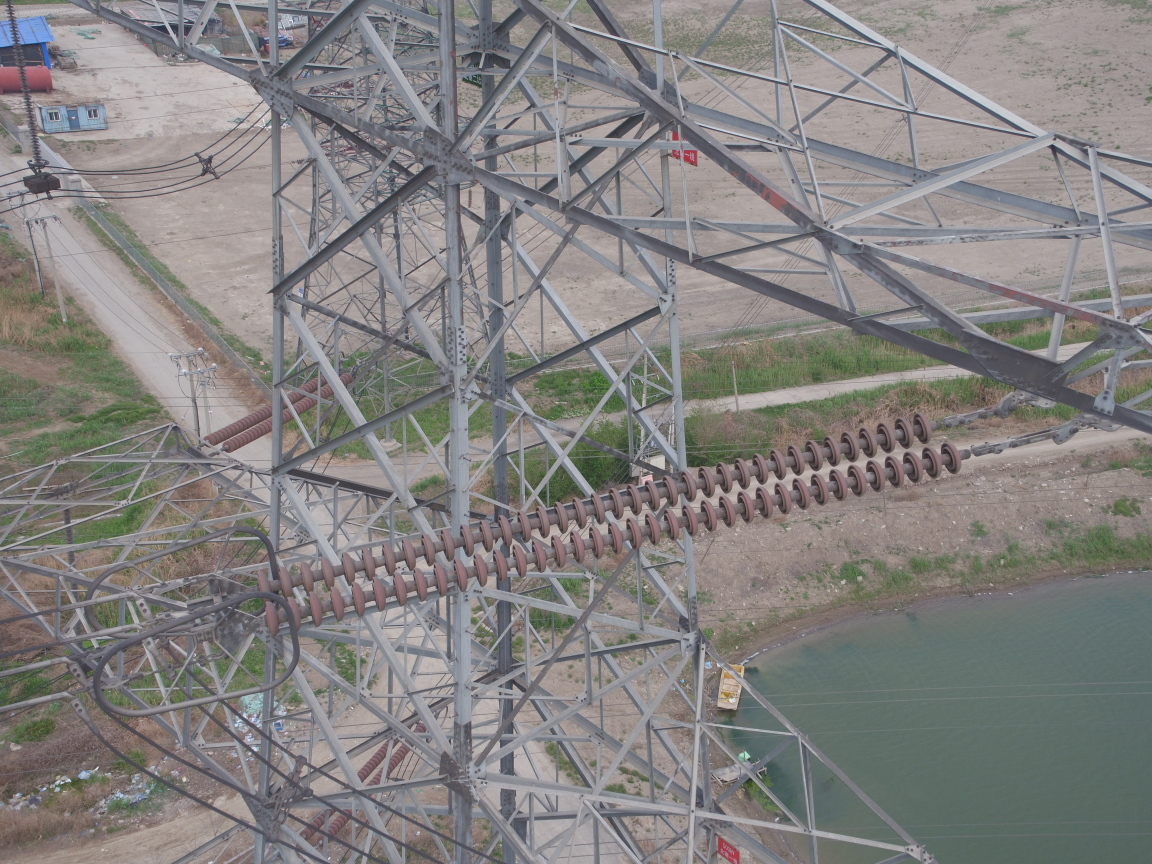insulator: (244, 408, 996, 638), (201, 368, 352, 455)
